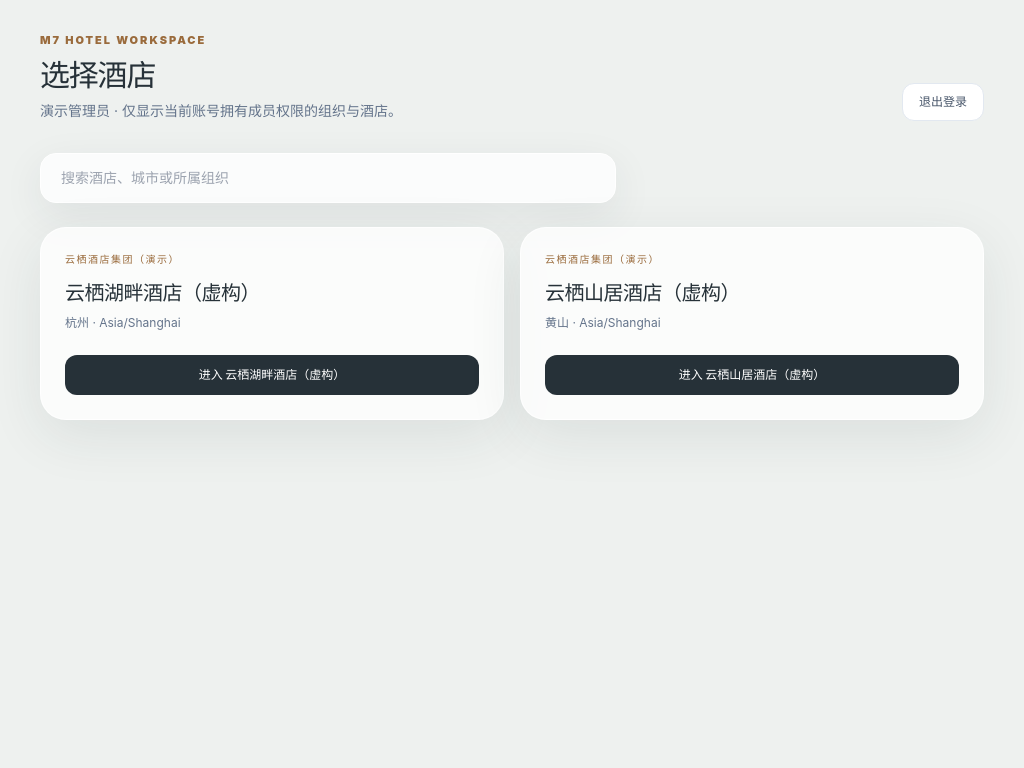
Test: M7 email-authenticated hotel workspace › opens the tenant-scoped render center module
The image size is (1024, 768).
Expected: the heading "选择酒店" is shown, [40,56,155,92]
Click the button "进入 云栖湖畔酒店（虚构）" at (272, 374), box [65,354,479,394]
(page scrolled)
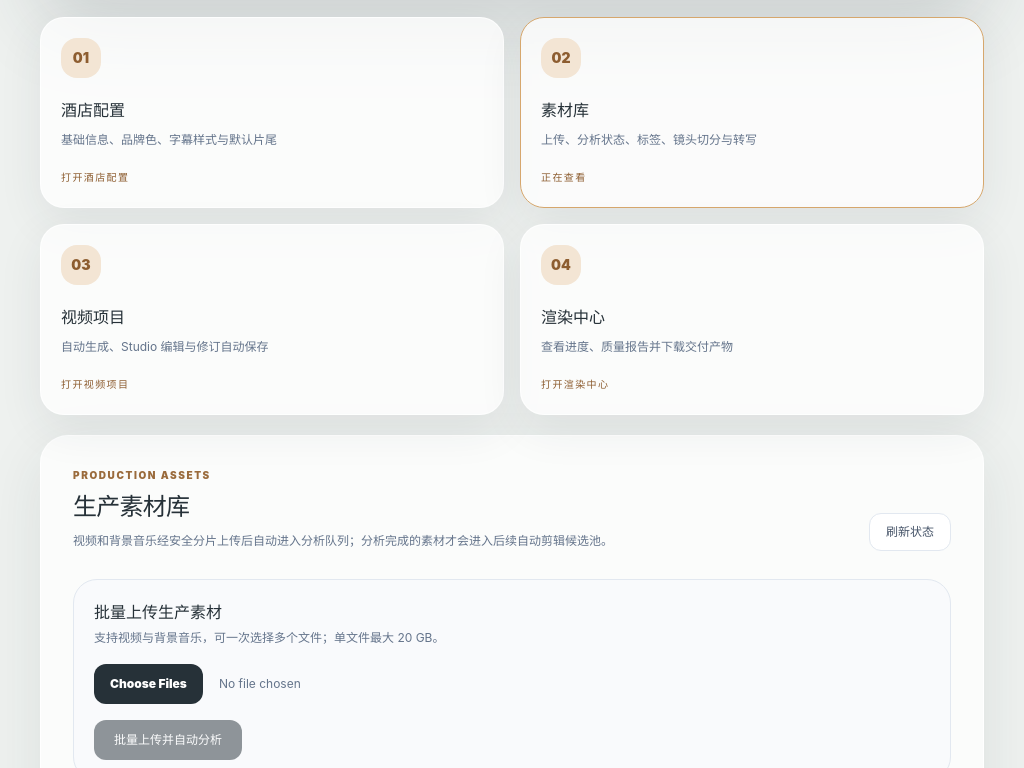
Click the button "打开渲染中心" at (575, 384), box [541,377,609,392]
(page scrolled)
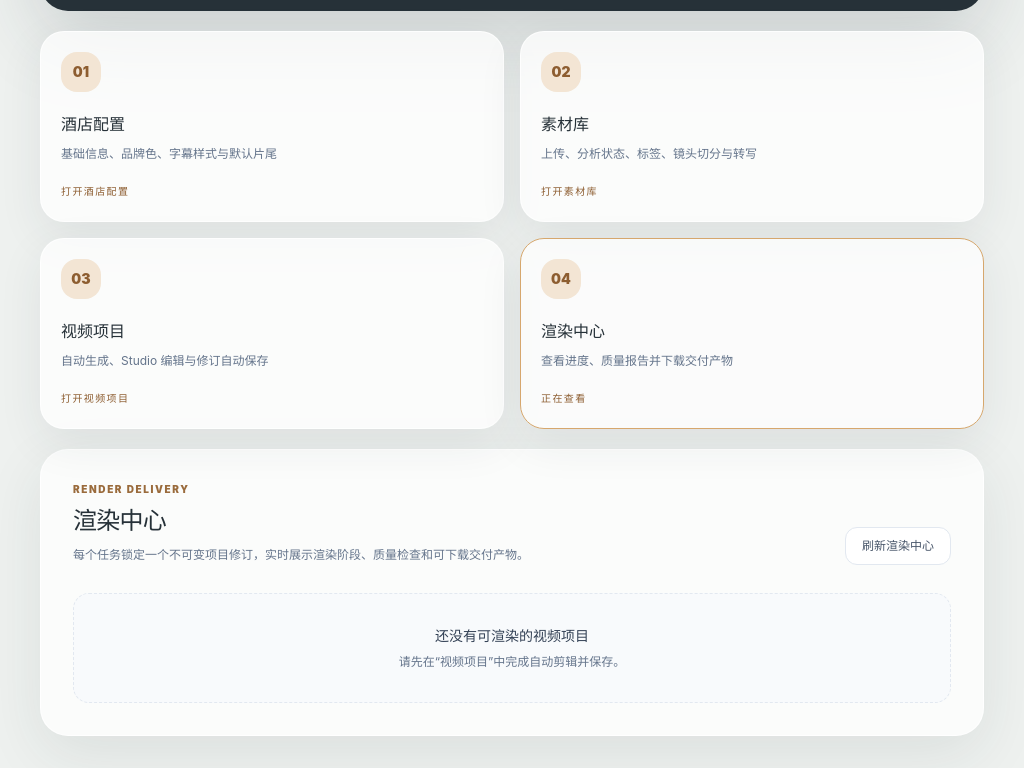
Expected: the heading "渲染中心" below "Render Delivery" is shown, [73,506,166,535]
Expected: the text "还没有可渲染的视频项目" is shown, [435,627,589,644]
